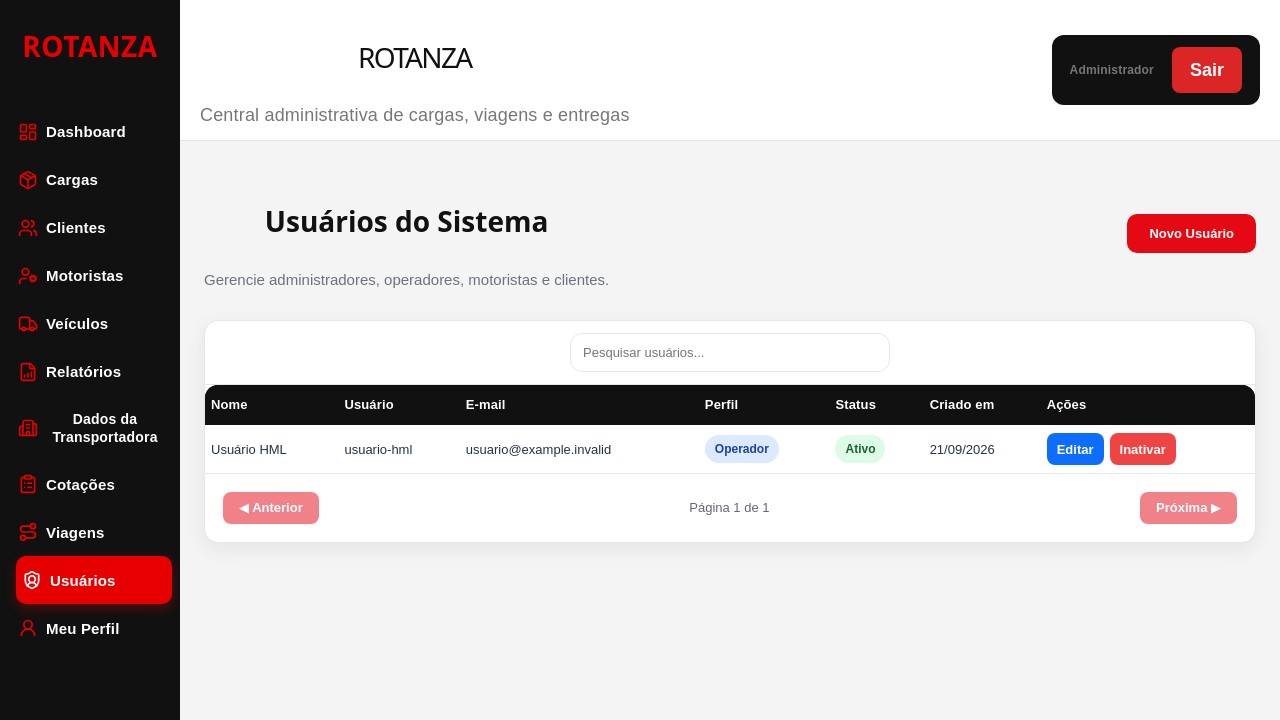
Test: usa toast e atualiza a listagem ao inativar usuário
Check: the text "Usuário HML" is shown, box [205,425,338,473]
Click the button "Inativar" at {"x": 1143, "y": 449}, box [1110,433,1176,465]
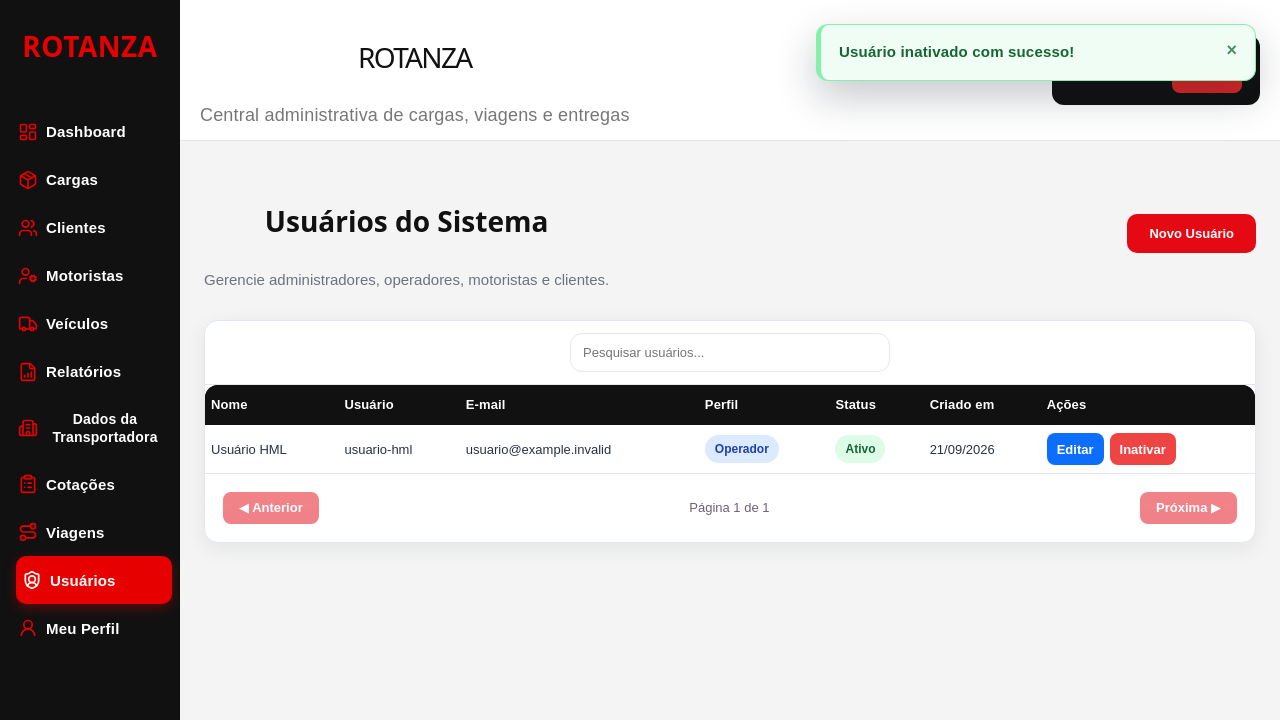
Check: the text "Usuário inativado com sucesso!" is shown, box [839,41,1074,64]
